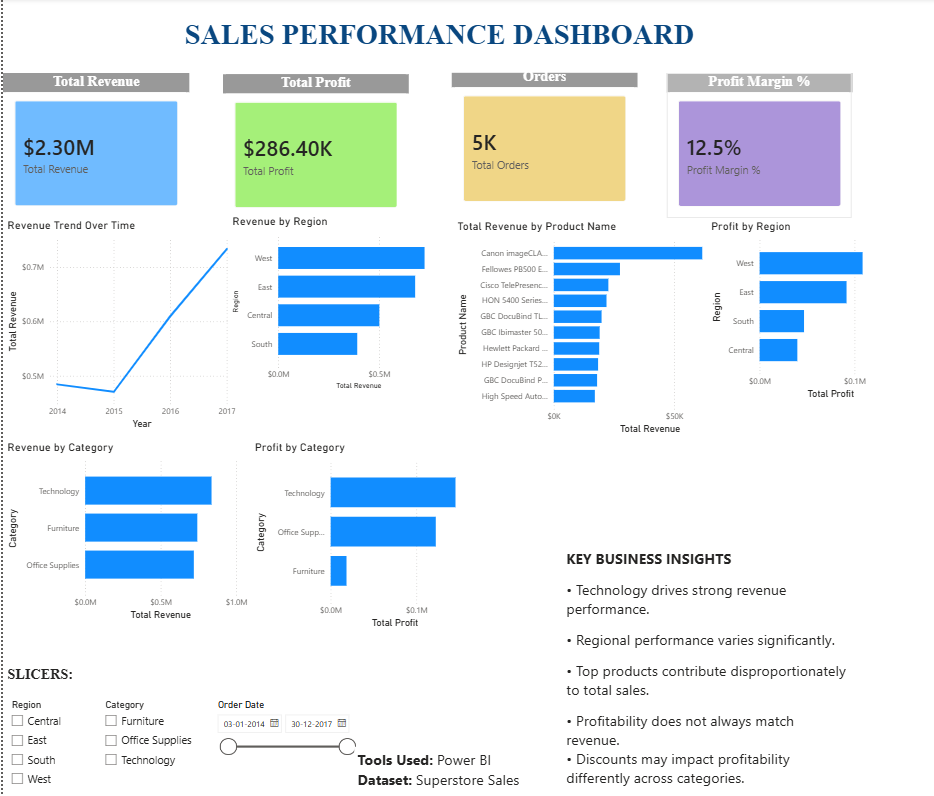

Layout of this report page (visuals, bound fields, positions):
{"tool":"powerbi","page":{"name":"Page 1","canvas":[1400,1200],"ordinal":0},"visuals":[{"type":"cardVisual","title":"Total Revenue","fields":{"Data":["Sample - Superstore.Total Revenue"]},"box":[0,112.1,280.2,217.4],"z":0},{"type":"cardVisual","title":"Total Profit","fields":{"Data":["Sample - Superstore.Total Profit"]},"box":[330.2,114.1,279.2,218.1],"z":1},{"type":"cardVisual","title":"Orders","fields":{"Data":["Sample - Superstore.Total Orders"]},"box":[674.6,106,279.2,218.1],"z":2},{"type":"cardVisual","title":"Profit Margin %","fields":{"Data":["Sample - Superstore.Profit Margin %"]},"box":[996.6,112.1,279.2,218.1],"z":3},{"type":"lineChart","title":"Revenue Trend Over Time","fields":{"Y":["Sample - Superstore.Total Revenue"],"Category":["Sample - Superstore.Order Date.Variation.Date Hierarchy.Year","Sample - Superstore.Order Date.Variation.Date Hierarchy.Quarter","Sample - Superstore.Order Date.Variation.Date Hierarchy.Month","Sample - Superstore.Order Date.Variation.Date Hierarchy.Day"]},"box":[2,330.2,352.6,322],"z":4},{"type":"clusteredBarChart","title":"Revenue by Category","fields":{"Category":["Sample - Superstore.Category"],"Y":["Sample - Superstore.Total Revenue"]},"box":[2,664.4,370.9,275.1],"z":6},{"type":"clusteredBarChart","title":"Profit by Category","fields":{"Category":["Sample - Superstore.Category"],"Y":["Sample - Superstore.Total Profit"]},"box":[373,664.4,334.2,287.4],"z":7},{"type":"barChart","fields":{"Category":["Sample - Superstore.Product Name"],"Y":["Sample - Superstore.Total Revenue"]},"box":[678.7,332.2,458.6,328.1],"z":8},{"type":"barChart","title":"Revenue by Region","fields":{"Category":["Sample - Superstore.Region"],"Y":["Sample - Superstore.Total Revenue"]},"box":[340.4,324.1,338.3,269],"z":9},{"type":"barChart","title":"Profit by Region","fields":{"Category":["Sample - Superstore.Region"],"Y":["Sample - Superstore.Total Profit"]},"box":[1059.8,332.2,313.9,275.1],"z":10},{"type":"slicer","fields":{"Values":["Sample - Superstore.Region"]},"box":[0,1047.6,138.6,152.9],"z":11},{"type":"slicer","fields":{"Values":["Sample - Superstore.Category"]},"box":[140.6,1047.6,152.9,152.9],"z":12},{"type":"slicer","fields":{"Values":["Sample - Superstore.Order Date"]},"box":[309.8,1047.6,228.3,152.9],"z":13},{"type":"textbox","box":[32.3,23.8,1248.3,88.3],"z":14},{"type":"textbox","box":[841.7,823.4,434.1,377],"z":15},{"type":"textbox","box":[2,998.6,307.7,48.9],"z":16},{"type":"textbox","box":[527.9,1125,313.9,75.4],"z":17}]}

Visuals, with their boxes in screenshot pixels (x1, y1, x2, y2), scaled from the page's 1400x1200 canvas onto the 934x796 screenshot:
"Total Revenue" cardVisual: [left=0, top=74, right=187, bottom=219]
"Total Profit" cardVisual: [left=220, top=76, right=407, bottom=220]
"Orders" cardVisual: [left=450, top=70, right=636, bottom=215]
"Profit Margin %" cardVisual: [left=665, top=74, right=851, bottom=219]
"Revenue Trend Over Time" lineChart: [left=1, top=219, right=237, bottom=433]
"Revenue by Category" clusteredBarChart: [left=1, top=441, right=249, bottom=623]
"Profit by Category" clusteredBarChart: [left=249, top=441, right=472, bottom=631]
barChart - Sample - Superstore.Product Name x Sample - Superstore.Total Revenue: [left=453, top=220, right=759, bottom=438]
"Revenue by Region" barChart: [left=227, top=215, right=453, bottom=393]
"Profit by Region" barChart: [left=707, top=220, right=916, bottom=403]
slicer - Sample - Superstore.Region: [left=0, top=695, right=92, bottom=795]
slicer - Sample - Superstore.Category: [left=94, top=695, right=196, bottom=795]
slicer - Sample - Superstore.Order Date: [left=207, top=695, right=359, bottom=795]
textbox: [left=22, top=16, right=854, bottom=74]
textbox: [left=562, top=546, right=851, bottom=795]
textbox: [left=1, top=662, right=207, bottom=695]
textbox: [left=352, top=746, right=562, bottom=795]
